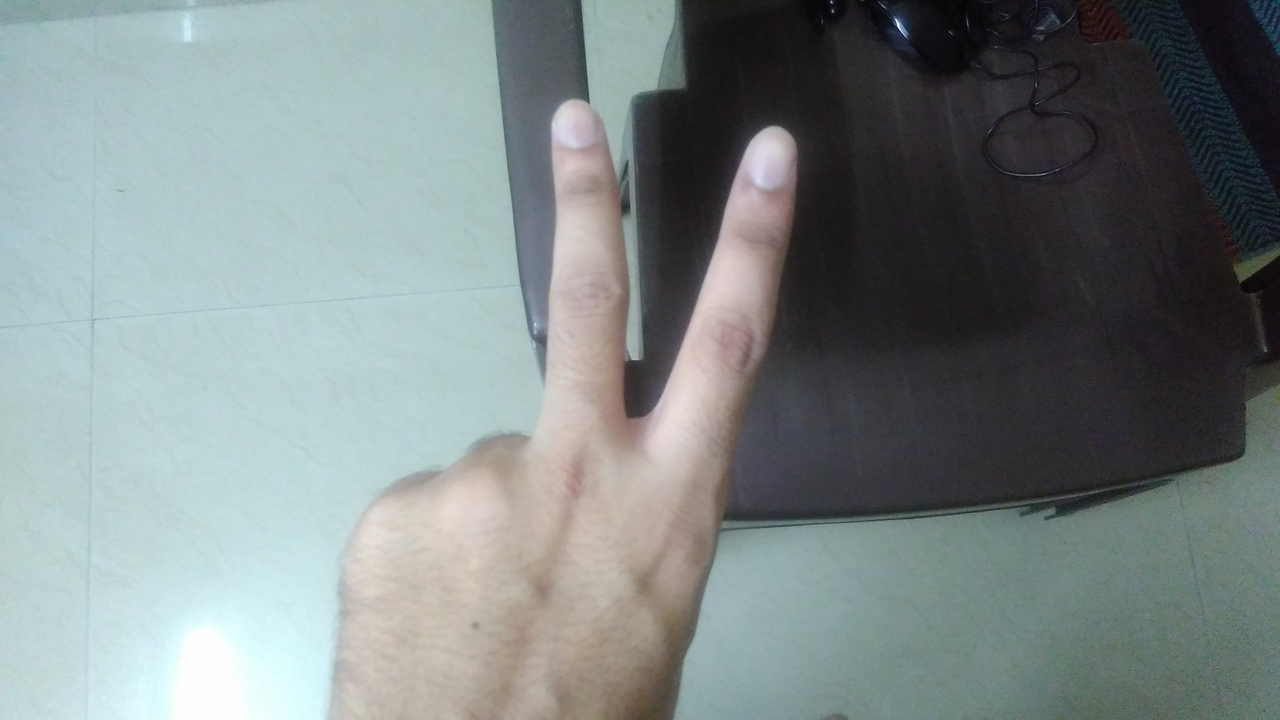fingertip: (540, 96, 610, 158), (740, 126, 802, 196)
